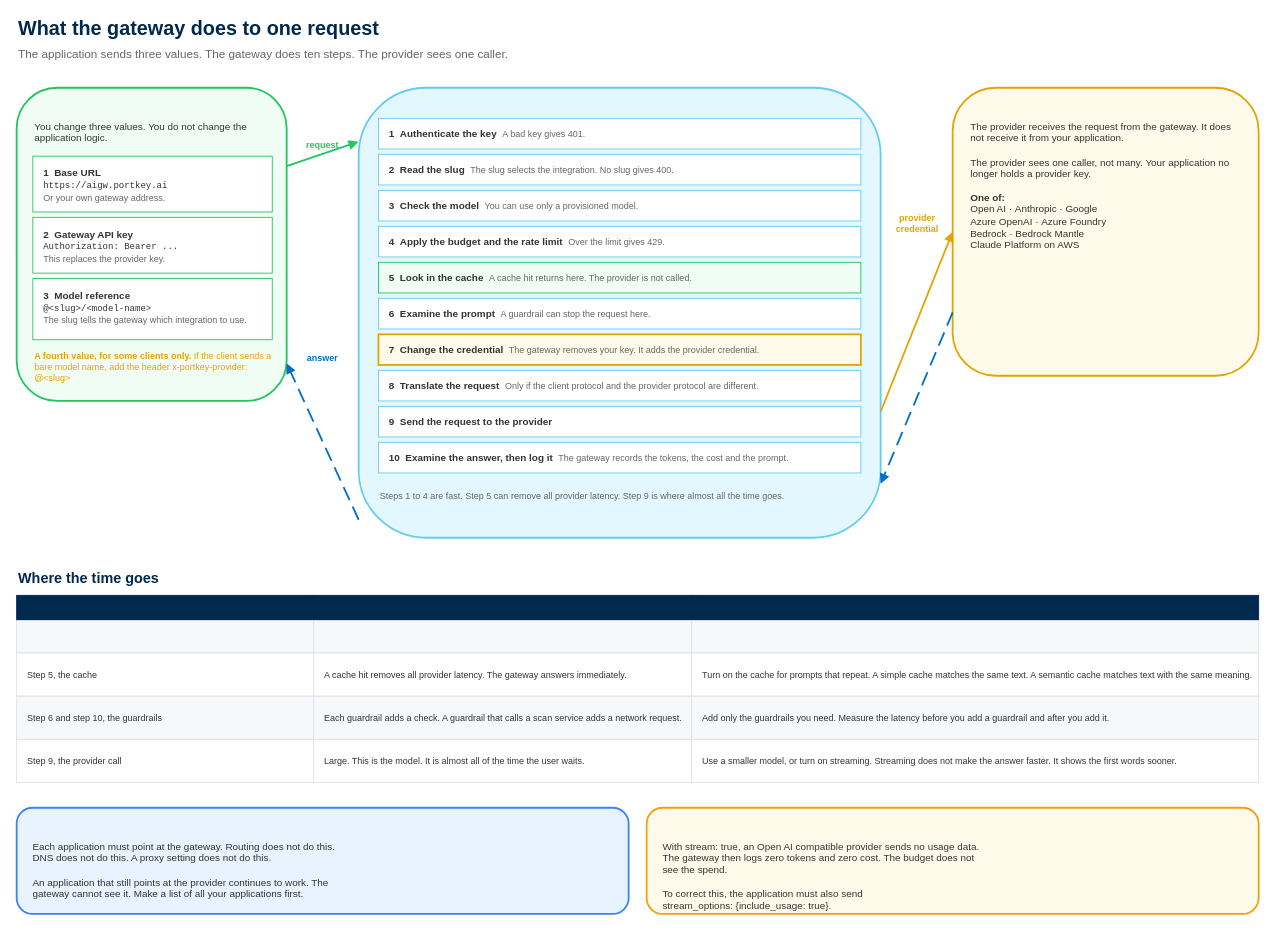
The diagram is 1274 pixels wide and 930 high, and some of its shapes have lost their labels. Each missing label, with the box of its shape:
AI GATEWAY the inference layer: (357, 86, 881, 538)
Effect on latency: (313, 594, 692, 621)
MODEL PROVIDER: (951, 86, 1259, 376)
Nothing. Do not try to tune these.: (691, 620, 1259, 653)
Small. These steps are local to the gateway.: (313, 620, 692, 653)
Step: (16, 594, 314, 621)
Steps 1 to 4, and step 10: (16, 620, 314, 653)
Streaming hides the token count: (645, 806, 1259, 914)
The gateway is not a network device: (15, 806, 629, 914)
What you can do: (691, 594, 1259, 621)
YOUR APPLICATION: (15, 86, 287, 401)
